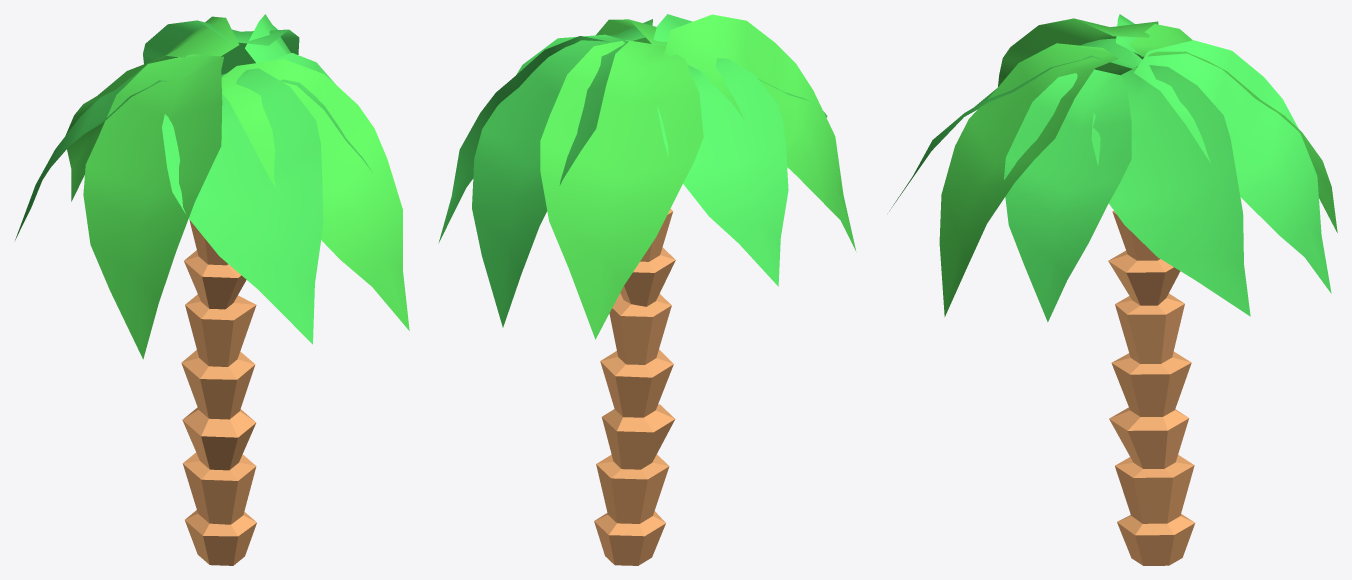
The model's file is tree68.gltf.
3 views of the same model, side by side, from view 1: azimuth 30°, elevation 25°; view 2: azimuth 150°, elevation 25°; view 3: azimuth 270°, elevation 25° (orthographic).
Visible parts, largest first — view 1: BezierCurve.004, BezierCurve.003, Cylinder, BezierCurve.002, BezierCurve.006, BezierCurve.009, BezierCurve.005, BezierCurve.000, BezierCurve.001; view 2: BezierCurve.006, Cylinder, BezierCurve.009, BezierCurve.005, BezierCurve.004, BezierCurve.000, BezierCurve.002, BezierCurve.003; view 3: BezierCurve.000, Cylinder, BezierCurve.001, BezierCurve.009, BezierCurve.002, BezierCurve.004, BezierCurve.006, BezierCurve.003.
Part boxes in pixels (x1=…): BezierCurve.004: x1=83, y1=54, x2=223, y2=359; BezierCurve.003: x1=162, y1=68, x2=323, y2=344; Cylinder: x1=181, y1=220, x2=256, y2=565; BezierCurve.002: x1=221, y1=59, x2=409, y2=330; BezierCurve.006: x1=65, y1=16, x2=239, y2=201; BezierCurve.009: x1=143, y1=20, x2=299, y2=74; BezierCurve.005: x1=14, y1=66, x2=171, y2=241; BezierCurve.000: x1=245, y1=14, x2=290, y2=62; BezierCurve.001: x1=266, y1=53, x2=372, y2=172; BezierCurve.006: x1=540, y1=40, x2=703, y2=339; Cylinder: x1=594, y1=209, x2=675, y2=565; BezierCurve.009: x1=472, y1=34, x2=628, y2=327; BezierCurve.005: x1=657, y1=58, x2=788, y2=286; BezierCurve.004: x1=664, y1=14, x2=856, y2=251; BezierCurve.000: x1=438, y1=36, x2=608, y2=243; BezierCurve.002: x1=596, y1=19, x2=667, y2=45; BezierCurve.003: x1=653, y1=14, x2=827, y2=117; BezierCurve.000: x1=1091, y1=65, x2=1250, y2=316; Cylinder: x1=1108, y1=211, x2=1195, y2=565; BezierCurve.001: x1=1004, y1=69, x2=1131, y2=322; BezierCurve.009: x1=1134, y1=40, x2=1331, y2=293; BezierCurve.002: x1=939, y1=43, x2=1118, y2=316; BezierCurve.004: x1=998, y1=18, x2=1158, y2=86; BezierCurve.006: x1=1129, y1=24, x2=1337, y2=232; BezierCurve.003: x1=889, y1=38, x2=1142, y2=211.
Bounding box in the file's own units: 4.33 × 6.74 × 5.32.
